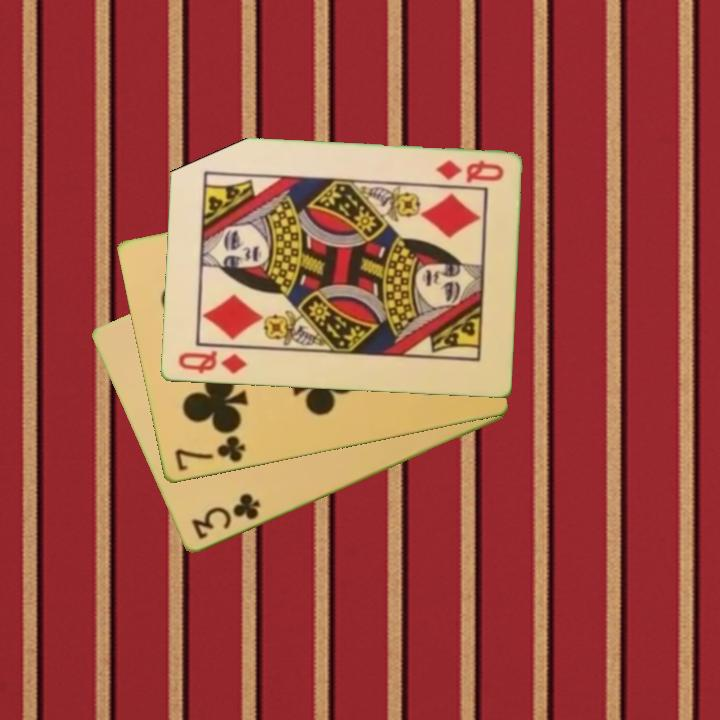3c: (188, 490, 263, 543)
7c: (171, 432, 248, 475)
Qd: (174, 347, 250, 377), (431, 157, 506, 187)
